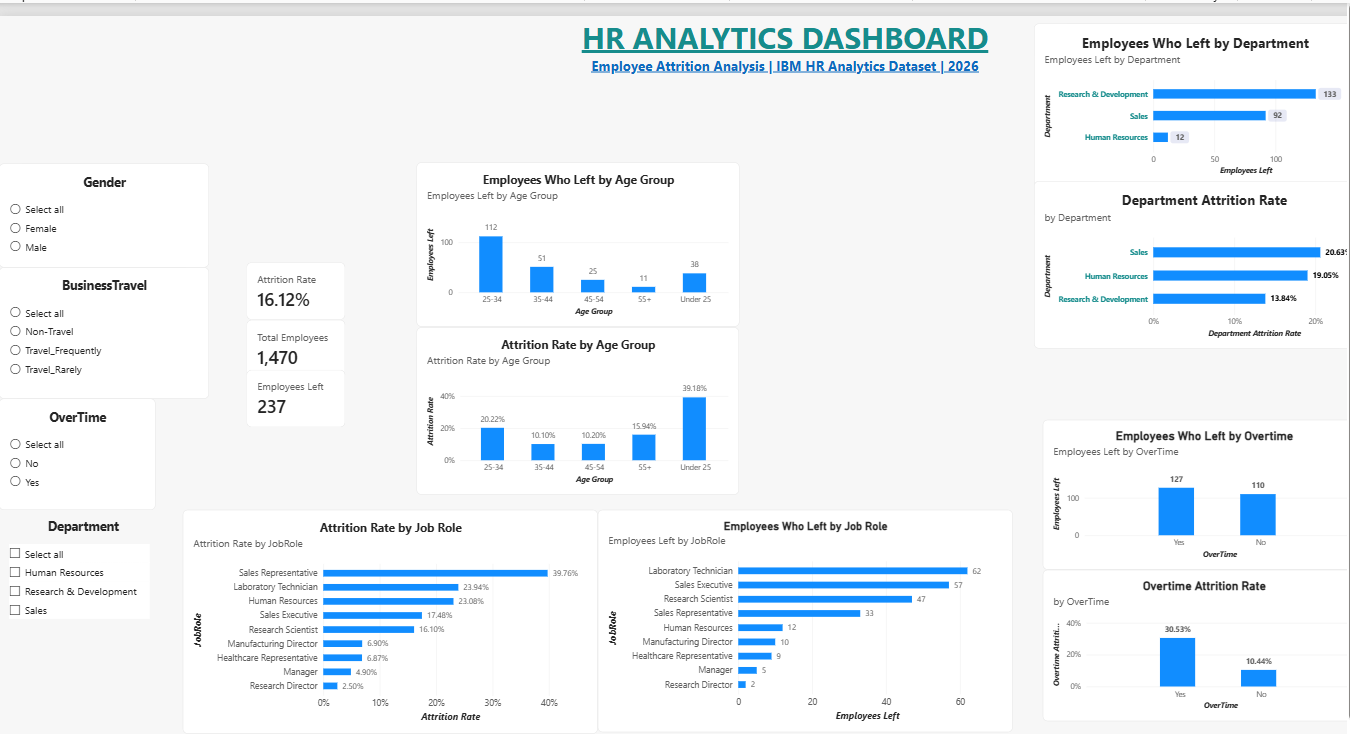

The page's visual inventory and layout, read from the dashboard file:
{"tool":"powerbi","page":{"name":"Page 1","canvas":[2200,1170],"ordinal":0},"visuals":[{"type":"cardVisual","fields":{"Data":["EmployeeData.Total Employees Display"]},"box":[396,486,158,94],"z":0},{"type":"cardVisual","fields":{"Data":["EmployeeData.Employees Left"]},"box":[396,566,158,92],"z":1000},{"type":"cardVisual","fields":{"Data":["EmployeeData.Attrition Rate"]},"box":[396,394,158,92],"z":2000},{"type":"clusteredBarChart","title":"Employees Who Left by Department","fields":{"Category":["EmployeeData.Department"],"Y":["EmployeeData.Employees Left"]},"box":[1656,12,515,260],"z":3000},{"type":"clusteredBarChart","fields":{"Category":["EmployeeData.Department"],"Y":["EmployeeData.Department Attrition Rate"]},"box":[1656,264,544,268],"z":4000},{"type":"clusteredColumnChart","title":"Employees Who Left by Overtime","fields":{"Category":["EmployeeData.OverTime"],"Y":["EmployeeData.Employees Left"]},"box":[1670,646,516,240],"z":5000},{"type":"clusteredColumnChart","fields":{"Category":["EmployeeData.OverTime"],"Y":["EmployeeData.Overtime Attrition Rate"]},"box":[1670,886,516,242],"z":6000},{"type":"clusteredColumnChart","title":"Employees Who Left by Age Group","fields":{"Category":["EmployeeData.Age Group"],"Y":["EmployeeData.Employees Left"]},"box":[668,234,516.7,263.3],"z":7000},{"type":"clusteredColumnChart","title":"Attrition Rate by Age Group","fields":{"Category":["EmployeeData.Age Group"],"Y":["EmployeeData.Attrition Rate"]},"box":[668,498,516,268],"z":8000},{"type":"clusteredBarChart","title":"Employees Who Left by Job Role","fields":{"Category":["EmployeeData.JobRole"],"Y":["EmployeeData.Employees Left"]},"box":[958,790,664,356],"z":8001},{"type":"clusteredBarChart","title":"Attrition Rate by Job Role","fields":{"Category":["EmployeeData.JobRole"],"Y":["EmployeeData.Attrition Rate"]},"box":[294,790,664,358],"z":8002},{"type":"listSlicer","fields":{"Values":["EmployeeData.Department"]},"box":[0,788,270,196],"z":8003},{"type":"listSlicer","fields":{"Values":["EmployeeData.Gender"]},"box":[0,236,336,166],"z":8004},{"type":"listSlicer","fields":{"Values":["EmployeeData.OverTime"]},"box":[0,612,250,178],"z":8005},{"type":"listSlicer","fields":{"Values":["EmployeeData.BusinessTravel"]},"box":[0,402,336,210],"z":8006},{"type":"textbox","box":[926,0,664,166],"z":8007}]}

Visuals, with their boxes in screenshot pixels (x1, y1, x2, y2), scaled from the page's 2200x1170 canvas onto the 1350x735 screenshot:
cardVisual - EmployeeData.Total Employees Display: [left=243, top=305, right=340, bottom=364]
cardVisual - EmployeeData.Employees Left: [left=243, top=356, right=340, bottom=413]
cardVisual - EmployeeData.Attrition Rate: [left=243, top=248, right=340, bottom=305]
"Employees Who Left by Department" clusteredBarChart: [left=1016, top=8, right=1332, bottom=171]
clusteredBarChart - EmployeeData.Department x EmployeeData.Department Attrition Rate: [left=1016, top=166, right=1349, bottom=334]
"Employees Who Left by Overtime" clusteredColumnChart: [left=1025, top=406, right=1341, bottom=557]
clusteredColumnChart - EmployeeData.OverTime x EmployeeData.Overtime Attrition Rate: [left=1025, top=557, right=1341, bottom=709]
"Employees Who Left by Age Group" clusteredColumnChart: [left=410, top=147, right=727, bottom=312]
"Attrition Rate by Age Group" clusteredColumnChart: [left=410, top=313, right=727, bottom=481]
"Employees Who Left by Job Role" clusteredBarChart: [left=588, top=496, right=995, bottom=720]
"Attrition Rate by Job Role" clusteredBarChart: [left=180, top=496, right=588, bottom=721]
listSlicer - EmployeeData.Department: [left=0, top=495, right=166, bottom=618]
listSlicer - EmployeeData.Gender: [left=0, top=148, right=206, bottom=253]
listSlicer - EmployeeData.OverTime: [left=0, top=384, right=153, bottom=496]
listSlicer - EmployeeData.BusinessTravel: [left=0, top=253, right=206, bottom=384]
textbox: [left=568, top=0, right=976, bottom=104]
